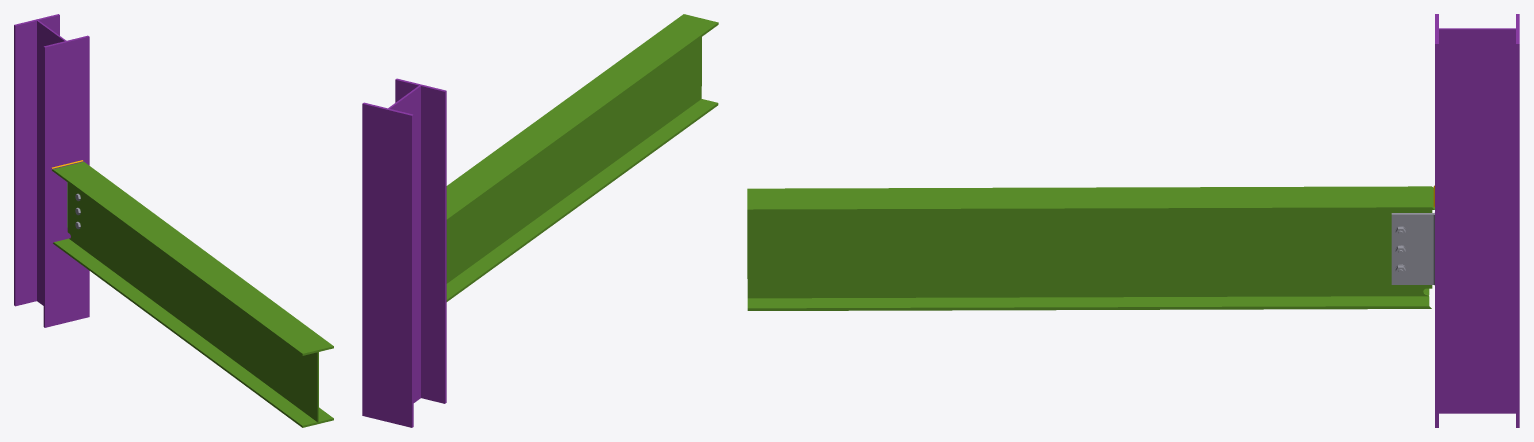
File: Directly Welded Flange Moment GLB.glb
3 renders of one model, left to right at view 1: azimuth 30°, elevation 25°; view 2: azimuth 150°, elevation 25°; view 3: azimuth 270°, elevation 25°, orthographic. The views are drawn at different scales.
Visible parts, largest first — view 1: FamilyInstance Specialty Equipment BOLT 3/4"DIA A325 2" <124; view 2: FamilyInstance Specialty Equipment BOLT 3/4"DIA A325 2" <124; view 3: FamilyInstance Specialty Equipment BOLT 3/4"DIA A325 2" <124, FamilyInstance Structural Framing PLATE 65 <1240984 PLATE 65.
Boxes of the visible parts, x1=… form: FamilyInstance Specialty Equipment BOLT 3/4"DIA A325 2" <124: x1=14, y1=14, x2=333, y2=427; FamilyInstance Specialty Equipment BOLT 3/4"DIA A325 2" <124: x1=362, y1=14, x2=718, y2=427; FamilyInstance Specialty Equipment BOLT 3/4"DIA A325 2" <124: x1=747, y1=14, x2=1519, y2=427; FamilyInstance Structural Framing PLATE 65 <1240984 PLATE 65: x1=1391, y1=213, x2=1434, y2=284.
Size of the model in its own units: 10 by 60 by 109.
